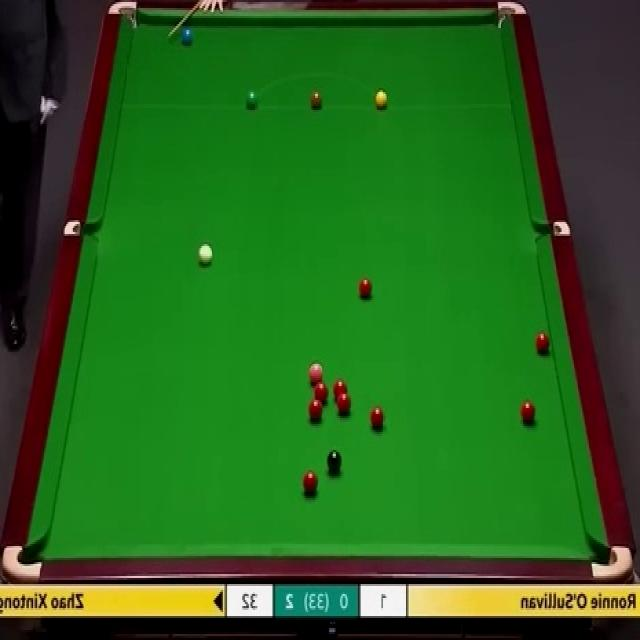black-ball: (325, 448, 342, 477)
blue-ball: (179, 22, 195, 47)
brown-ball: (309, 91, 323, 111)
green-ball: (244, 90, 258, 112)
pink-ball: (308, 361, 326, 385)
red-ball: (520, 399, 536, 427), (300, 472, 318, 496), (357, 276, 373, 300), (336, 393, 352, 416), (370, 405, 384, 431), (536, 331, 551, 355), (332, 379, 349, 400), (308, 398, 323, 420), (313, 382, 329, 402)
white-ball: (197, 241, 214, 267)
yellow-ball: (374, 90, 388, 110)
